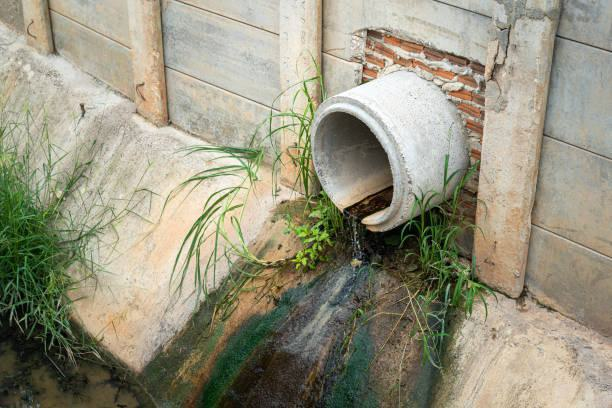Corrosion: (136, 196, 467, 408)
Crack: (486, 23, 512, 105)
Exposed reinforcement: (135, 81, 146, 101), (26, 19, 36, 39), (79, 102, 85, 116)
